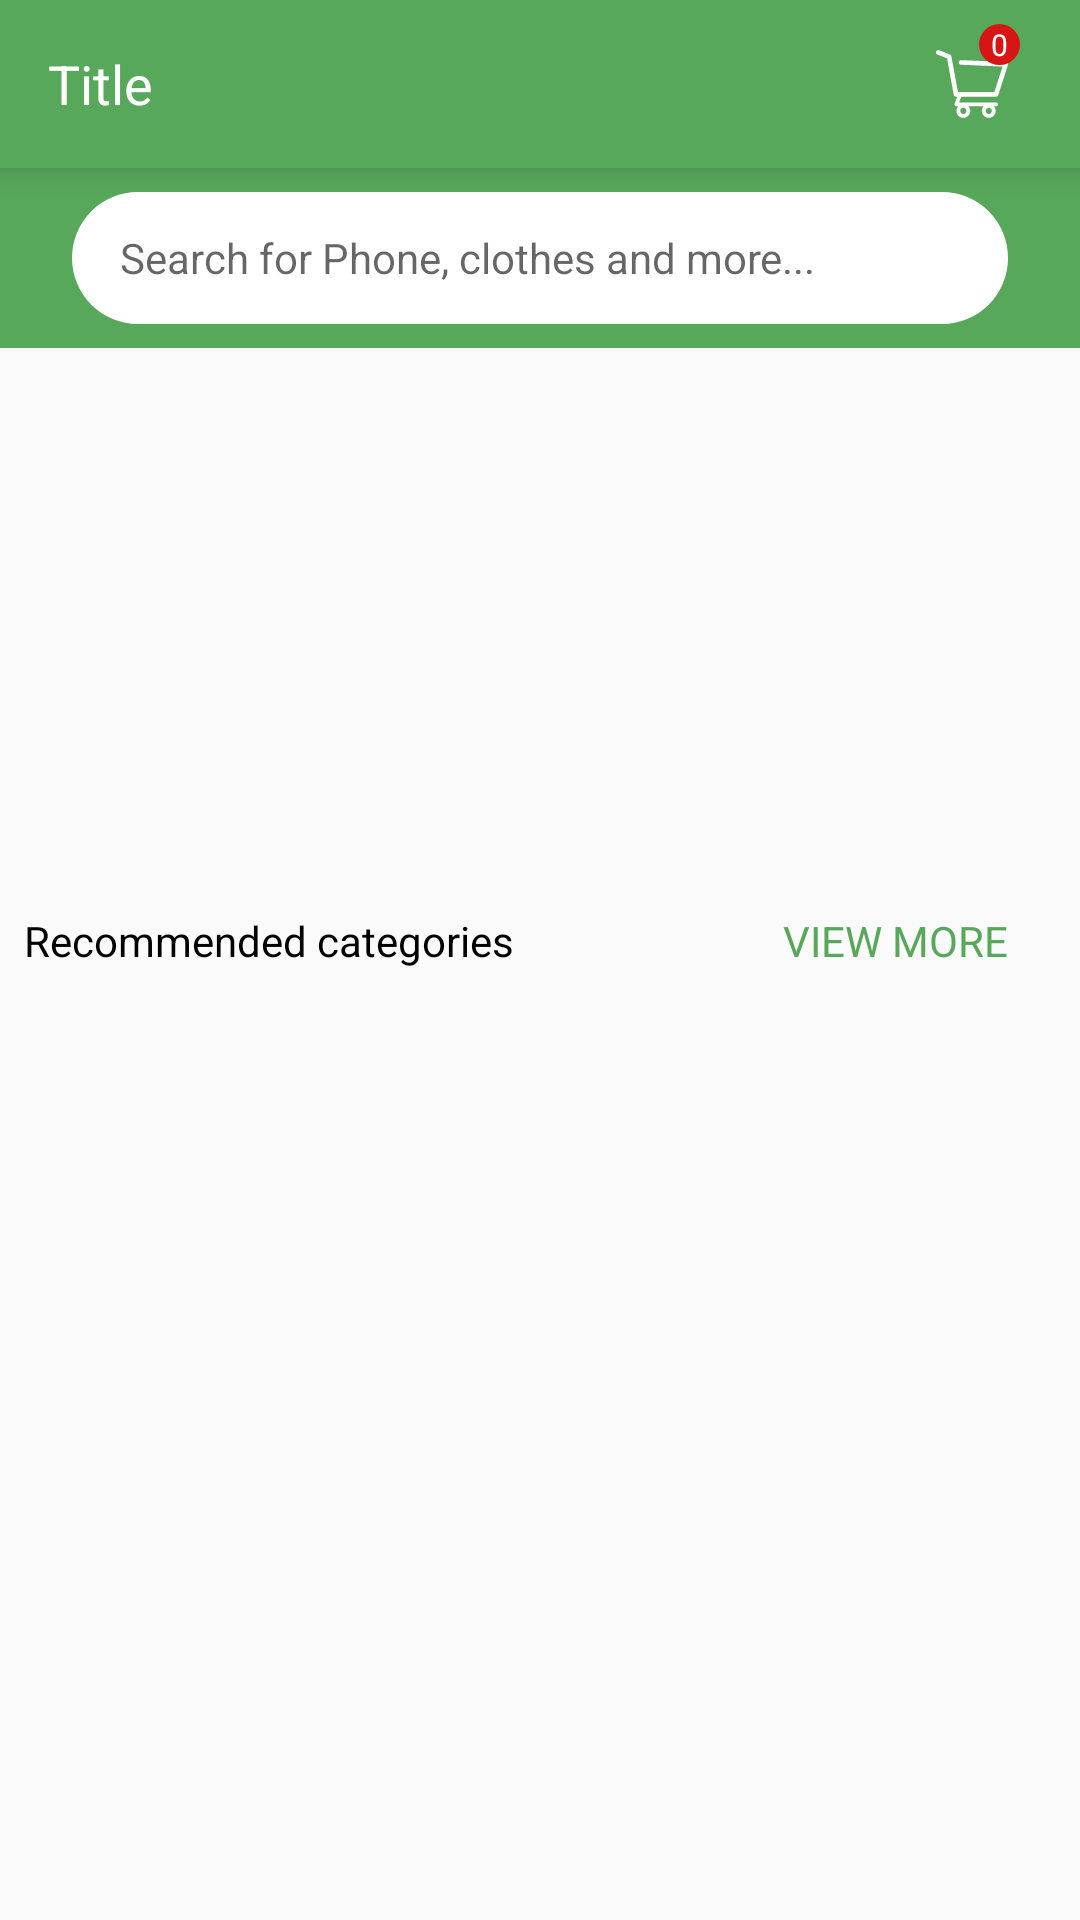

Named icons in this screenshot (1080px×1920px) and their bounding boxes, (x1, y1, x2, y2):
shopping cart: (936, 48, 1008, 118)
